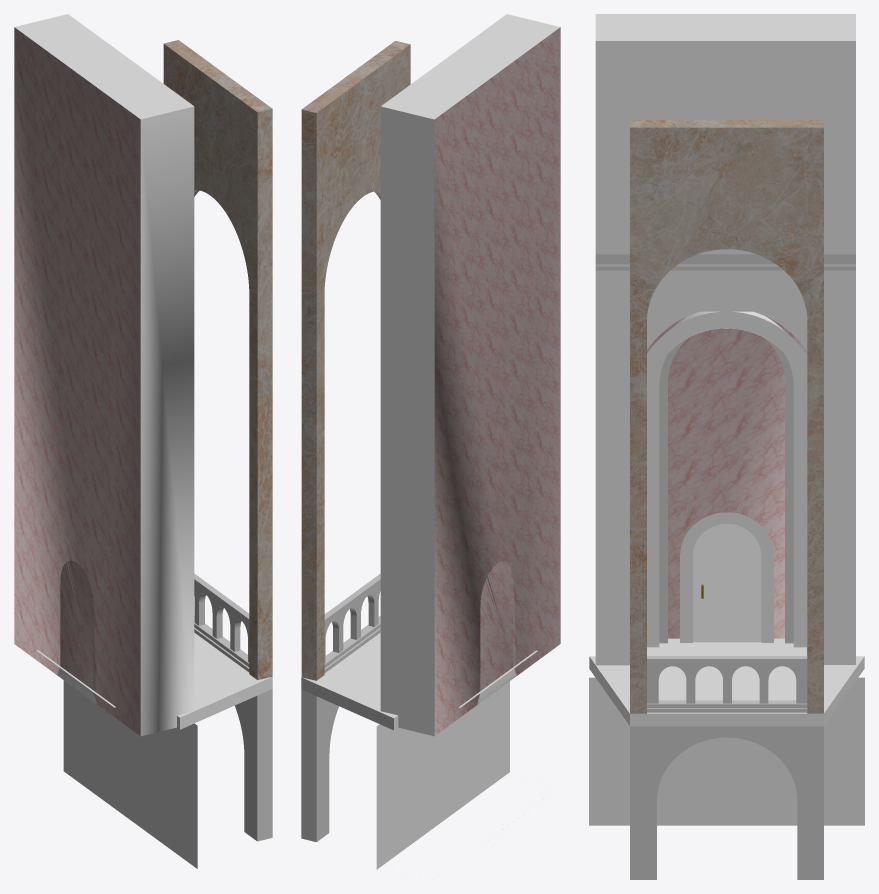
Rendered from Ściana_Hub.fbx.
3 views of the same model, side by side, from view 1: azimuth 30°, elevation 25°; view 2: azimuth 150°, elevation 25°; view 3: azimuth 270°, elevation 25° (orthographic). The views are drawn at different scales.
Visible parts, largest first — view 1: ŚcianyZewnętrzne.007, Cube.004, ŚcianyZewnętrzne.001, Cube.001, Cube.003, Cube, Cube.006; view 2: ŚcianyZewnętrzne.007, Cube.004, ŚcianyZewnętrzne.001, Cube.001, Cube.003, Cube, Cube.006; view 3: ŚcianyZewnętrzne.007, Cube.004, ŚcianyZewnętrzne.001, Cube.001, Cube.003, Cube.010, Cube.039, Cube.035, Cube.044, Cube, Cube.032, Cube.031 (+1 smaller).
Boxes of the visible parts, <box> form: ŚcianyZewnętrzne.007: <box>14,14,194,736</box>; Cube.004: <box>163,40,272,679</box>; ŚcianyZewnętrzne.001: <box>63,680,197,868</box>; Cube.001: <box>235,689,272,841</box>; Cube.003: <box>36,633,272,729</box>; Cube: <box>194,573,249,662</box>; Cube.006: <box>194,616,249,672</box>; ŚcianyZewnętrzne.007: <box>380,14,560,736</box>; Cube.004: <box>301,40,410,680</box>; ŚcianyZewnętrzne.001: <box>376,681,509,869</box>; Cube.001: <box>301,689,338,841</box>; Cube.003: <box>301,633,537,730</box>; Cube: <box>324,573,380,662</box>; Cube.006: <box>324,616,380,672</box>; ŚcianyZewnętrzne.007: <box>595,14,855,665</box>; Cube.004: <box>630,120,823,713</box>; ŚcianyZewnętrzne.001: <box>589,677,864,825</box>; Cube.001: <box>630,726,823,879</box>; Cube.003: <box>589,638,864,725</box>; Cube.010: <box>693,524,761,642</box>; Cube.039: <box>647,355,806,647</box>; Cube.035: <box>659,338,793,643</box>; Cube.044: <box>647,311,807,655</box>; Cube: <box>647,656,807,703</box>; Cube.032: <box>680,512,773,642</box>; Cube.031: <box>630,713,823,726</box>.
Bounding box in the file's own units: 3.51 × 17.06 × 5.39.
